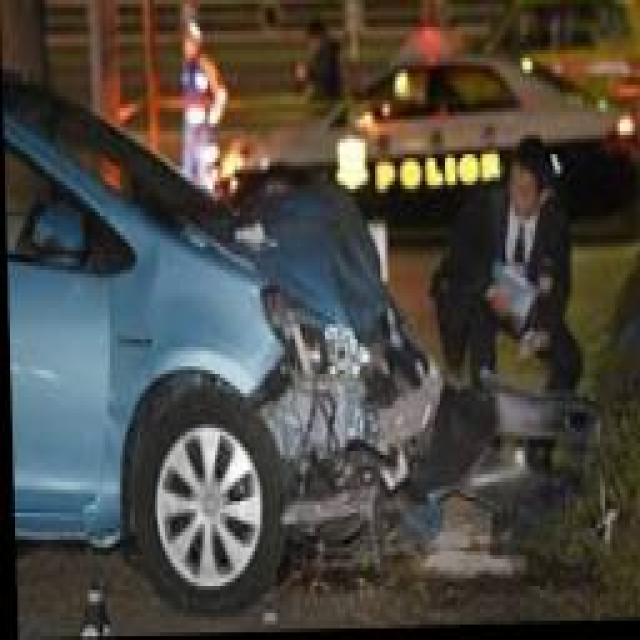Bonnet: (171, 186, 396, 349)
Bumper: (260, 329, 598, 560)
Fender: (95, 233, 280, 491)
Light: (271, 300, 354, 378)
